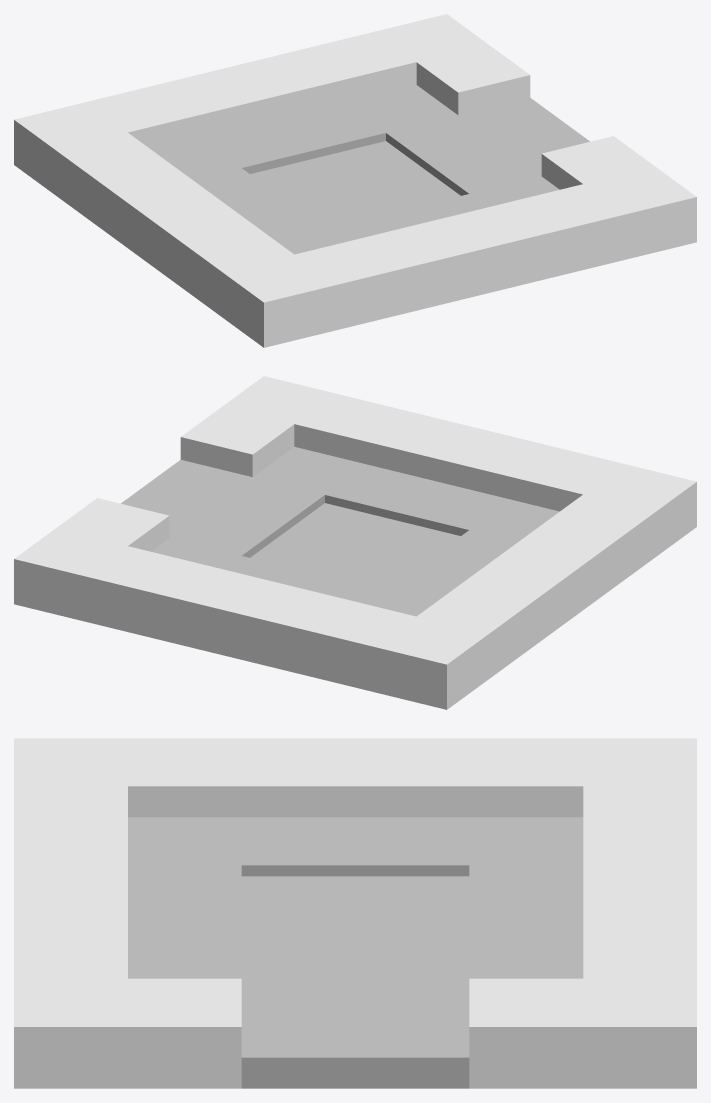
The model's file is ForestRiverCrossingend.obj.
3 views of the same model, one above another, from view 1: azimuth 30°, elevation 25°; view 2: azimuth 150°, elevation 25°; view 3: azimuth 270°, elevation 25° (orthographic). The views are drawn at different scales.
Visible parts, largest first — view 1: ForestEnd_Plane.008; view 2: ForestEnd_Plane.008; view 3: ForestEnd_Plane.008.
Part boxes in pixels (left/top/right/bottom): ForestEnd_Plane.008: left=14, top=14, right=696, bottom=347; ForestEnd_Plane.008: left=14, top=376, right=696, bottom=709; ForestEnd_Plane.008: left=14, top=738, right=696, bottom=1088.
Bounding box in the file's own units: 1 × 0.1 × 1.
